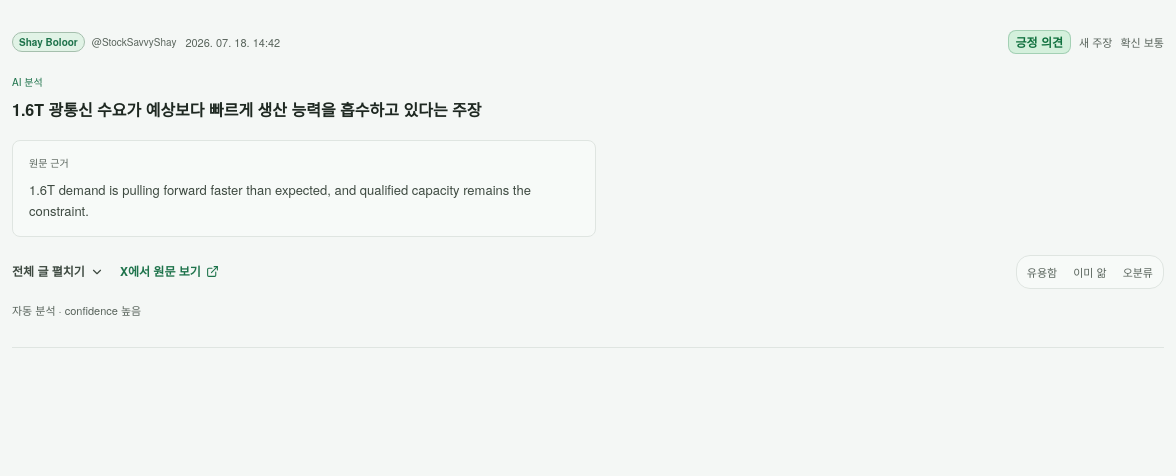
Test case: opinion detail › expands the full post when the opinion body is clicked
expect the text "Shay Boloor" is shown: met, box [12, 32, 85, 52]
Click the heading "1.6T 광통신 수요가 예상보다 빠르게 생산 능력을 흡수하고 있다는 주장": click(247, 109) [12, 98, 482, 120]
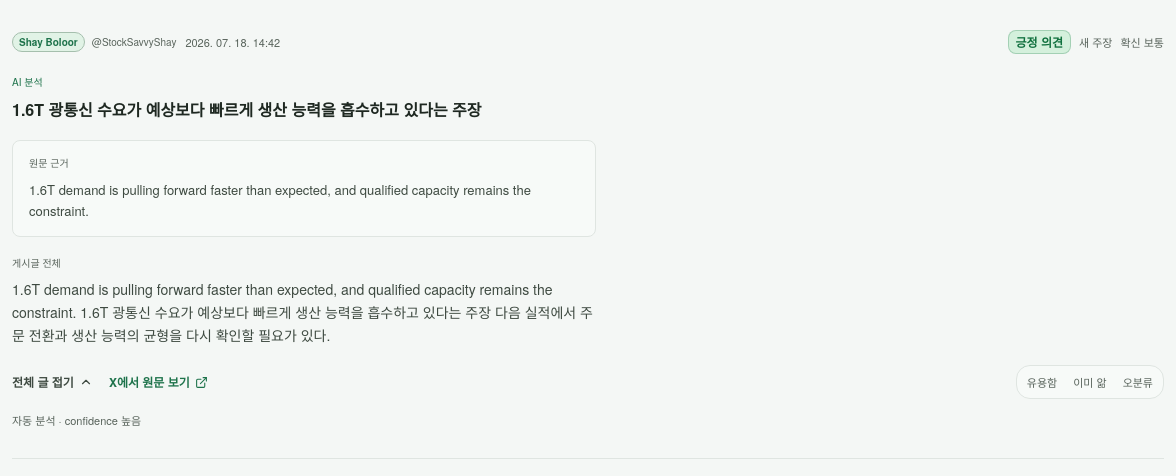
expect the button "전체 글 접기" is shown: met, box [12, 372, 93, 392]
